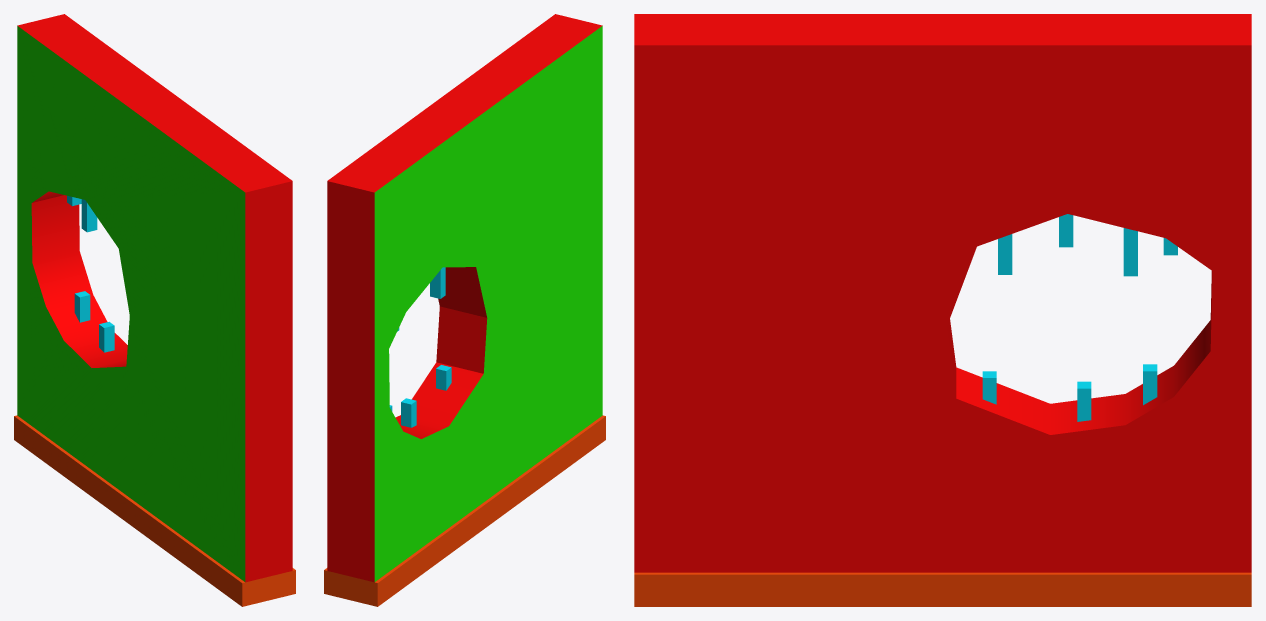
The model's file is WallBroke.FBX.
3 renders of one model, left to right at view 1: azimuth 30°, elevation 25°; view 2: azimuth 150°, elevation 25°; view 3: azimuth 270°, elevation 25°, orthographic. The views are drawn at different scales.
Parts seen in each view (by area): view 1: Wall001; view 2: Wall001; view 3: Wall001.
Boxes of the visible parts, bbox=[...] form: Wall001: bbox=[14, 14, 295, 606]; Wall001: bbox=[324, 14, 605, 606]; Wall001: bbox=[634, 14, 1251, 606].
Bounding box in the file's own units: 51 × 375 × 375.
